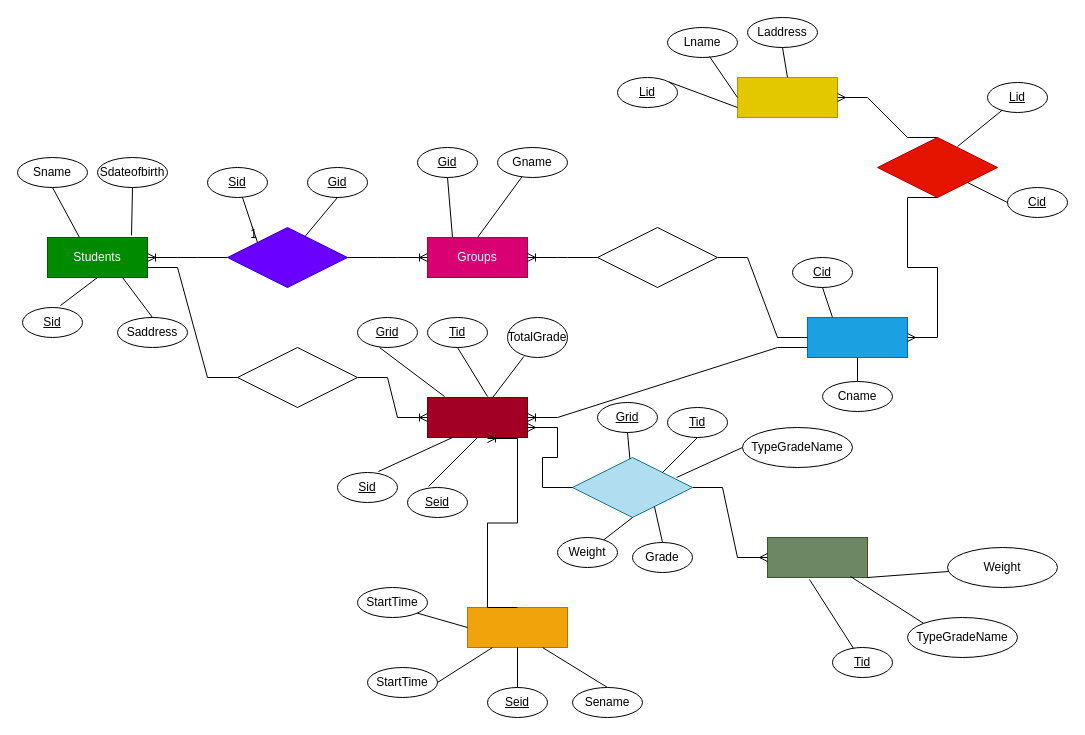
The diagram is 1085 pixels wide and 735 high, and some of its shapes have lost their labels. The centre of each missing label's shape, as x and y in pixels:
"Courses" belongs at (x=857, y=337).
"Detail" belongs at (x=632, y=487).
"GradeSheets" belongs at (x=477, y=417).
"Has" belongs at (x=297, y=377).
"Lecturers" belongs at (x=787, y=97).
"Semesters" belongs at (x=517, y=627).
"Students_Groups" belongs at (x=287, y=257).
"Studied" belongs at (x=657, y=257).
"Supervises" belongs at (x=937, y=167).
"TypeGrades" belongs at (x=817, y=557).
